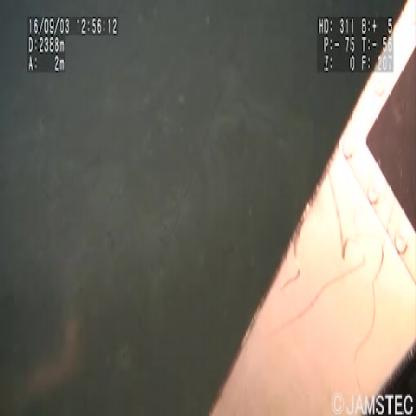Rov: (203, 1, 415, 416)
